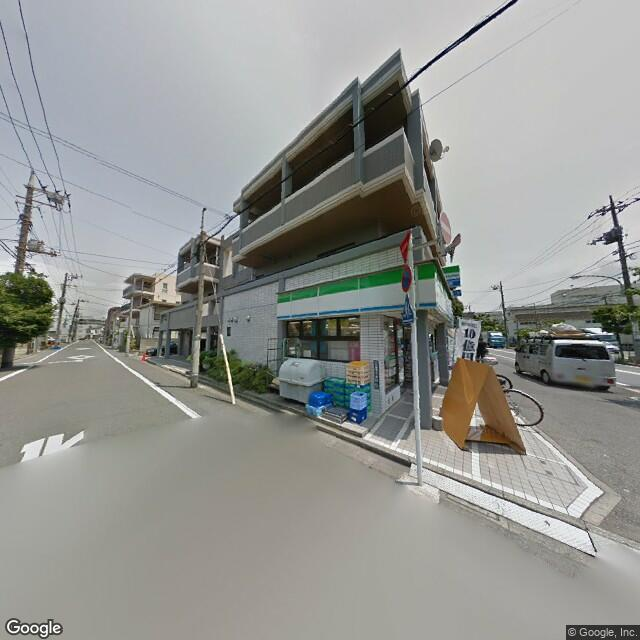family_mart: (276, 258, 433, 326), (444, 262, 463, 290)
